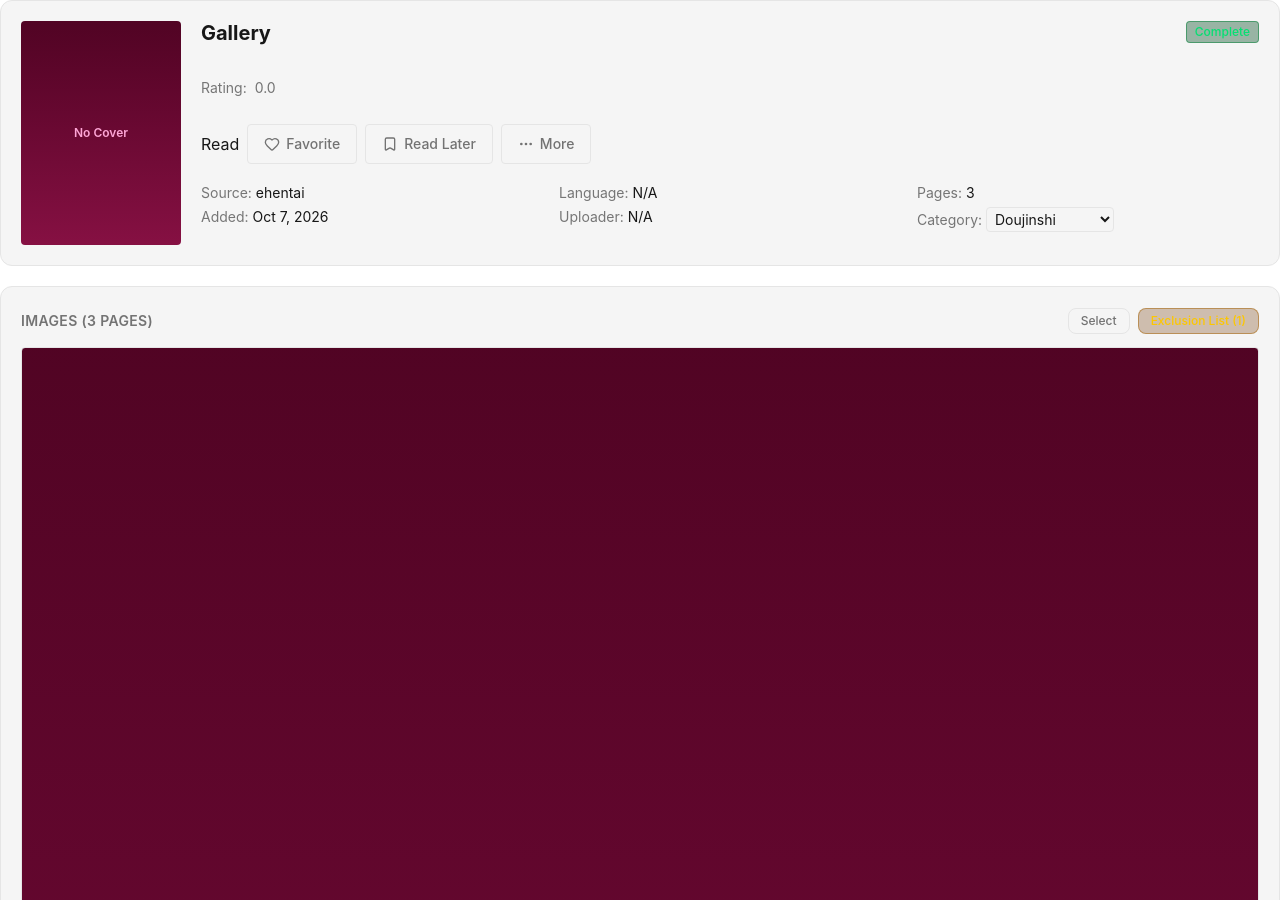
Test case: gallery detail select bar and exclusion list › exclusion list with a long gallery opens as a dialog instead of below the thumbnail grid
The image size is (1280, 900).
Click the button "Exclusion List (1)" at x=1198, y=321, box [1138,308,1259,334]
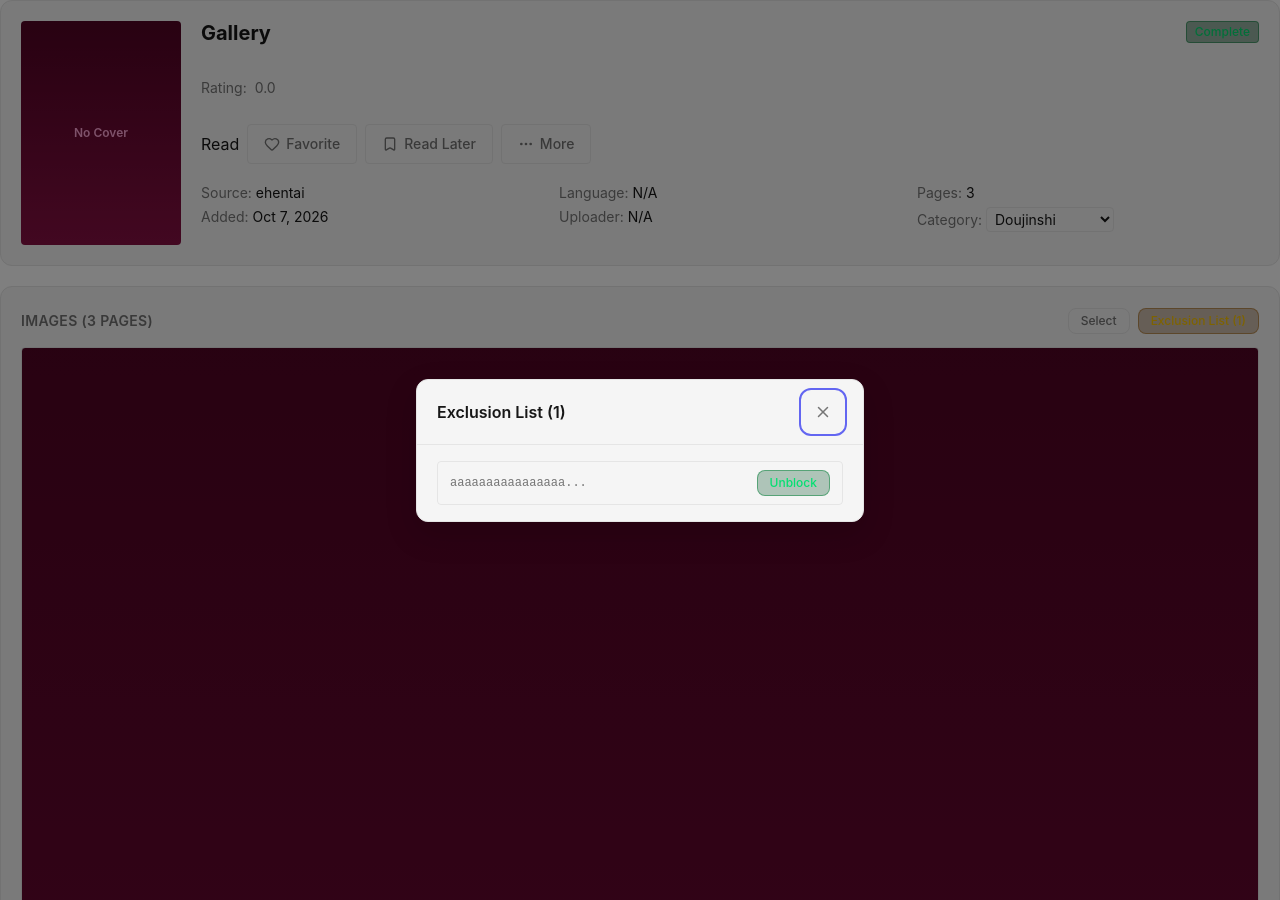
Now the element with test id "excluded-list" is shown, box [437,460,843,504]
Now the text "aaaaaaaaaaaaaaaa..." is shown, box [450,474,587,490]
Click the button named "Close" at x=823, y=412, box [803,392,843,432]
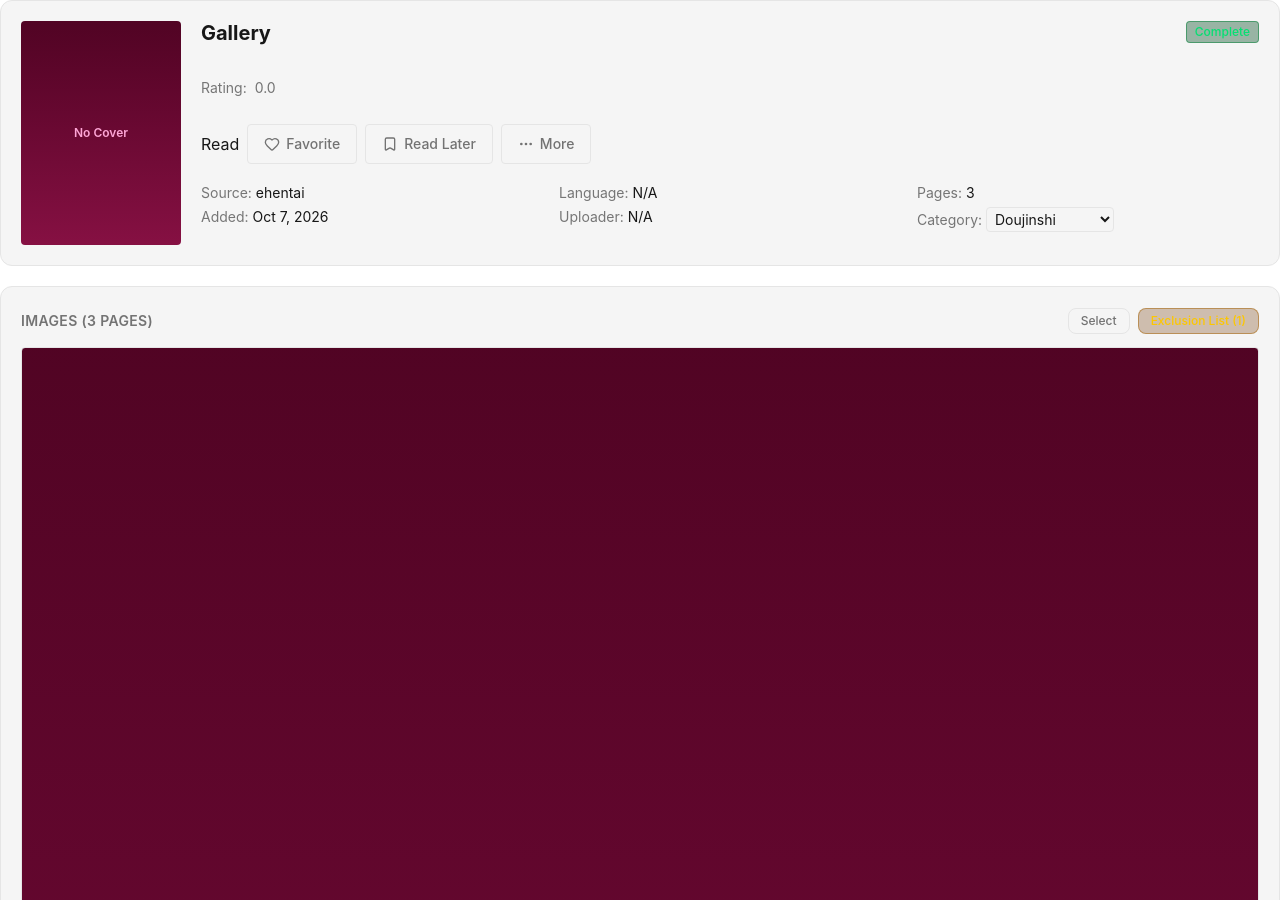
Now the dialog is gone
